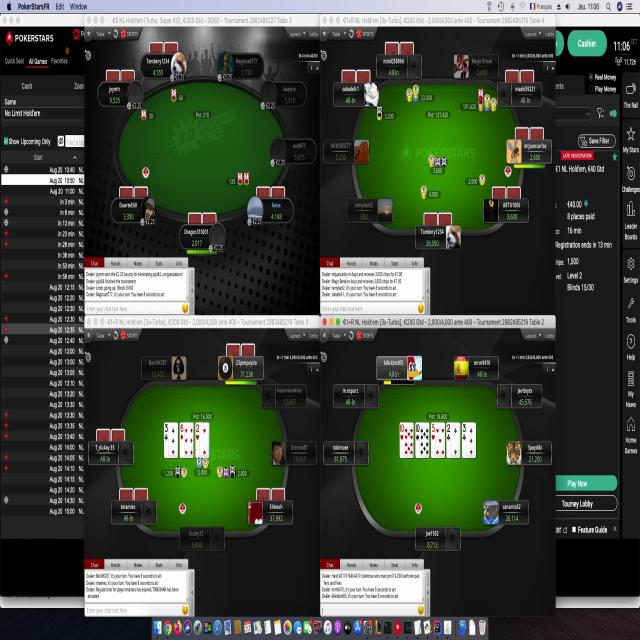10H: (399, 420, 405, 442)
10S: (414, 421, 421, 441)
2C: (446, 424, 452, 443)
2H: (194, 423, 200, 442)
3C: (163, 421, 169, 445), (461, 422, 467, 442)
5H: (430, 422, 436, 441)
6D: (179, 421, 185, 442)
